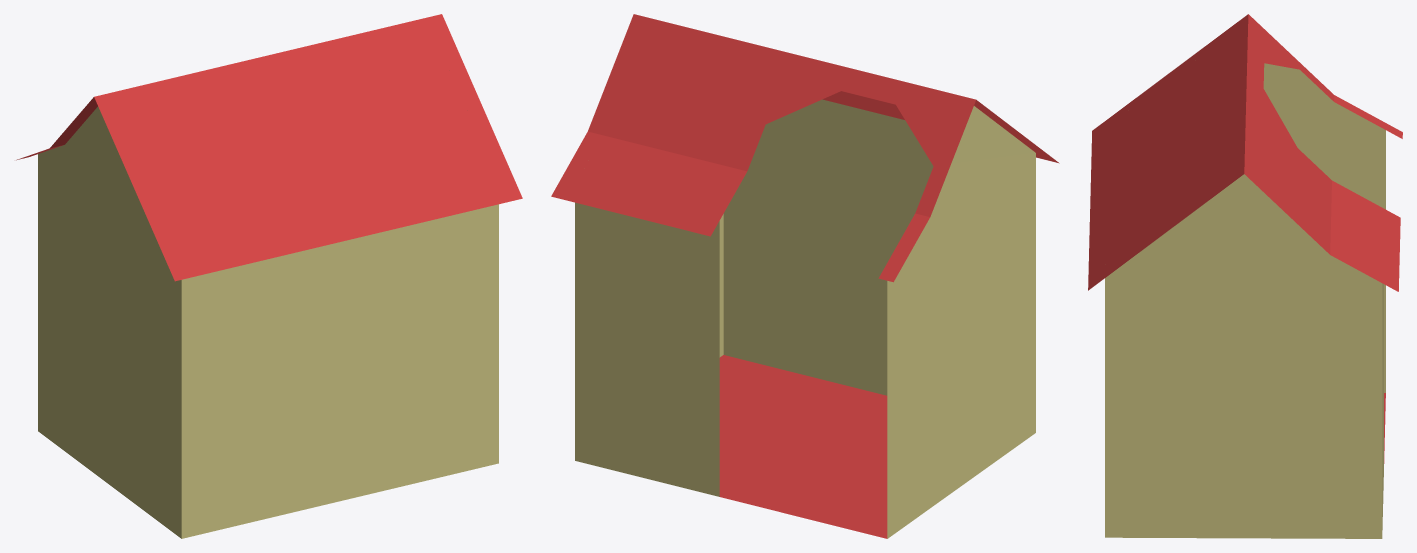
3 renders of one model, left to right at view 1: azimuth 30°, elevation 25°; view 2: azimuth 150°, elevation 25°; view 3: azimuth 270°, elevation 25°, orthographic. The views are drawn at different scales.
Bounding box in the file's own units: 11.41 × 9.4 × 12.24.
